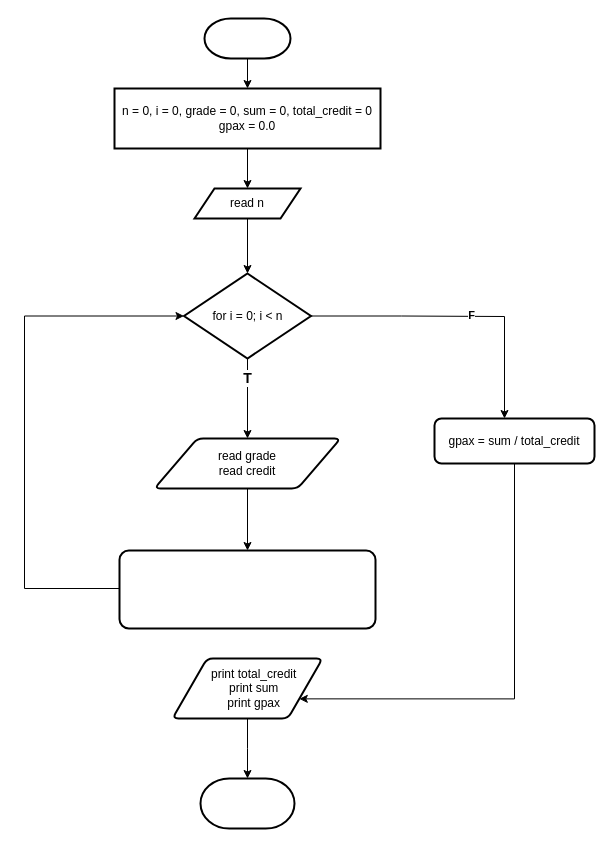
The diagram is 613 pixels wide and 846 high, and some of its shapes have lost their labels. The shapes that lost their labels are listed below. From the top down, each one's centre as x and y in pixels, then its label:
At pixel 247 38: "start".
At pixel 247 589: "sum = sum + (grade * credit) total_credit = total_credit + credit".
At pixel 247 803: "stop".
